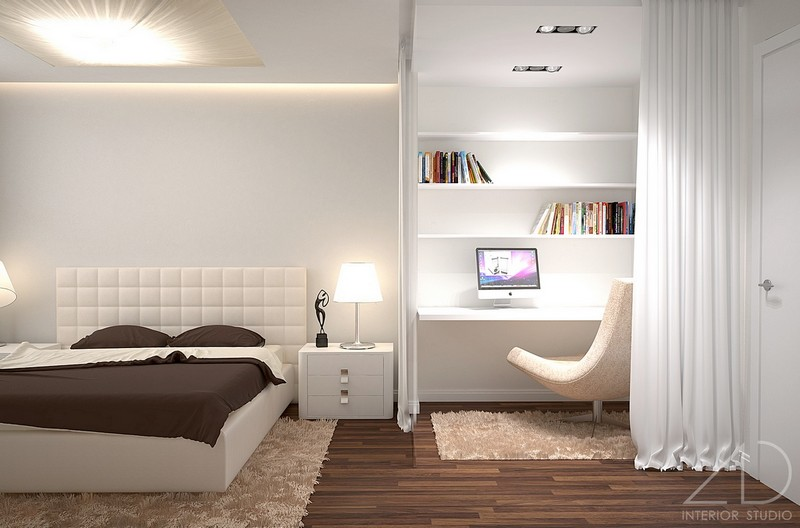bed: (14, 267, 307, 495)
door: (750, 26, 798, 501)
lamp: (330, 259, 388, 353), (3, 262, 16, 354)
sofa: (505, 277, 627, 441)
stool: (301, 335, 396, 426)
